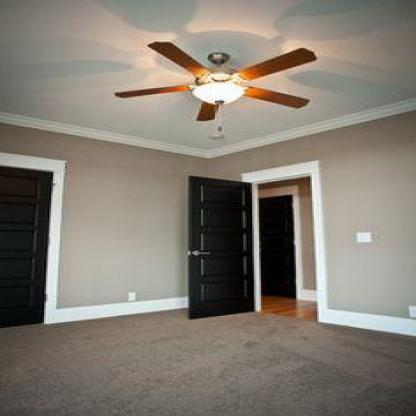other: (153, 64, 271, 125)
